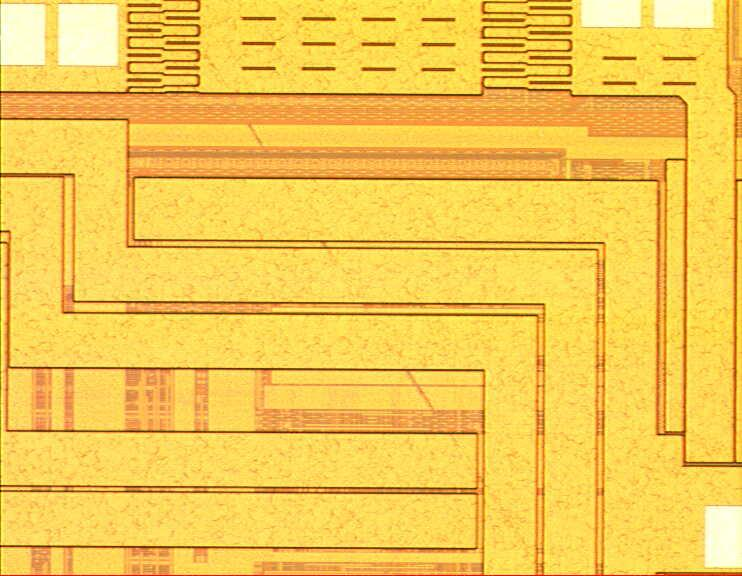SCRATCH: (177, 25, 540, 572)
